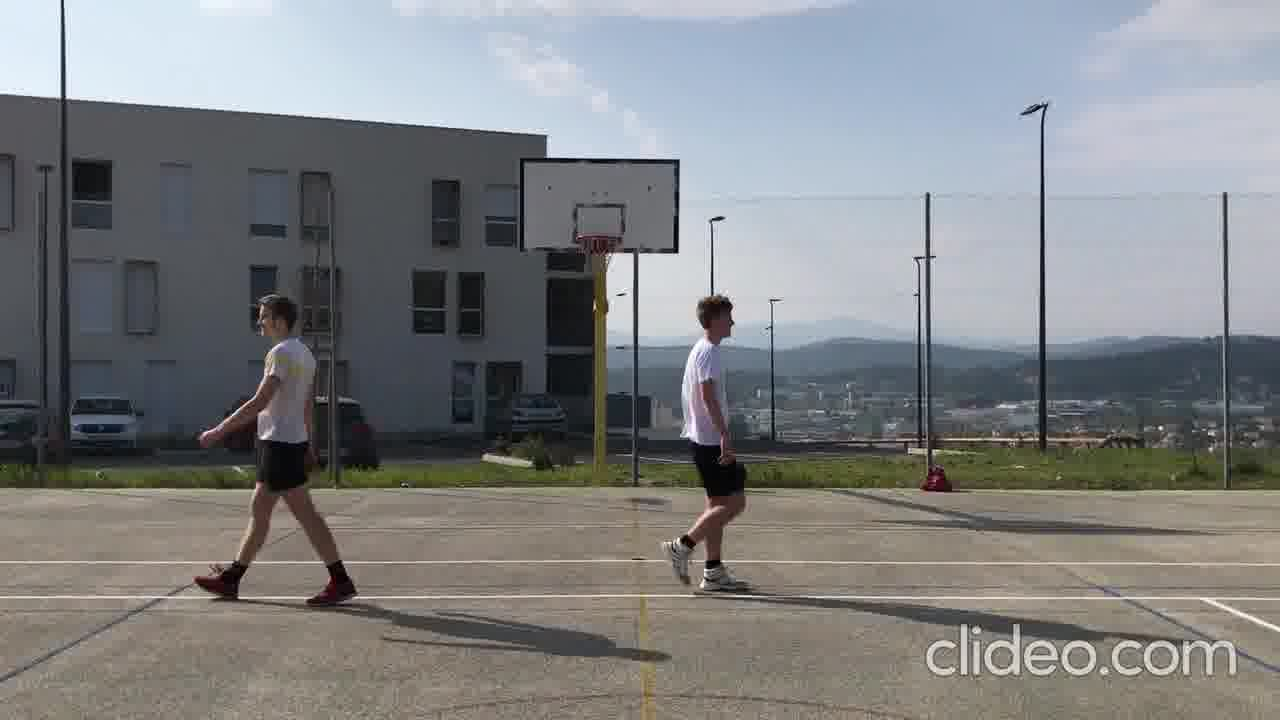jugador: (180, 280, 369, 616)
